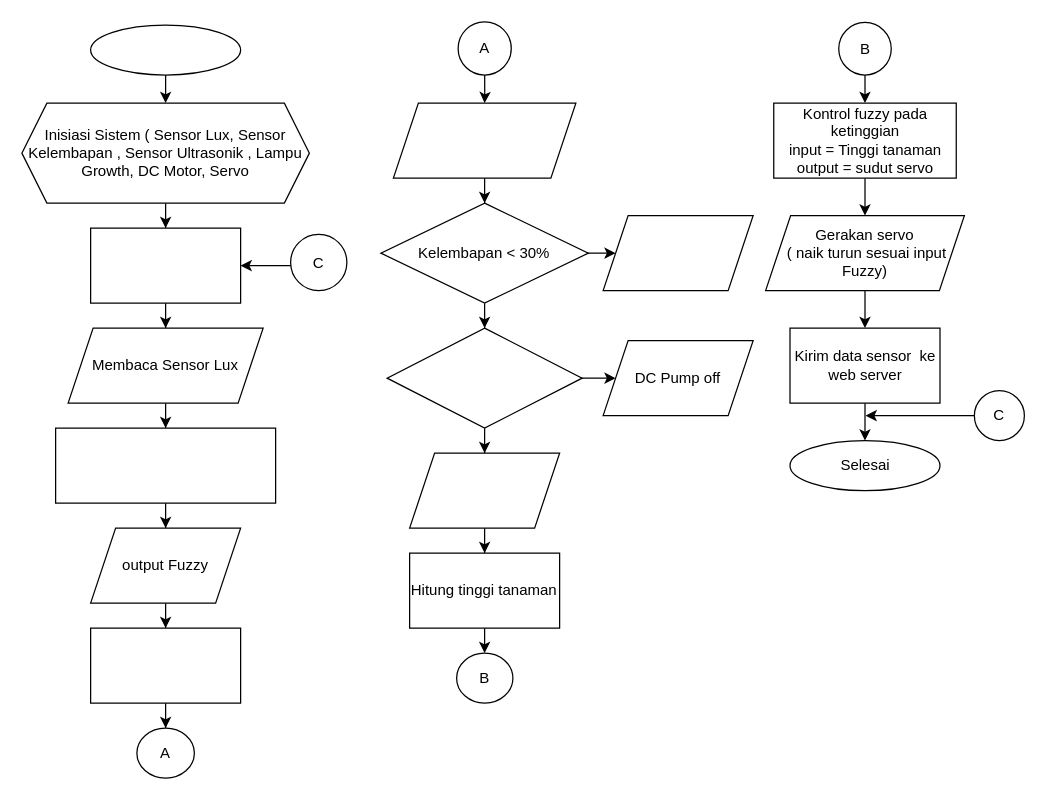
Some shapes in this 1046 by 800 pixel diagram are drawn without their labels. The centre of each missing label's shape, as x and y in pixels:
Aktifkan lampu growth ( 1-6 strip sesuai Kebutuhan): pixel 165 665
DC pump On: pixel 677 252
Fuzzy control cahaya (input = intensitas lux, output= jumlah strip lampu ): pixel 165 465
Kelembapan >80% or 5 detik On: pixel 484 377
Loop Berjalan: pixel 165 265
Membaca Sensor Kelembapan: pixel 484 140
Membaca Sensor ultrasonik: pixel 484 490
Mulai: pixel 165 49
